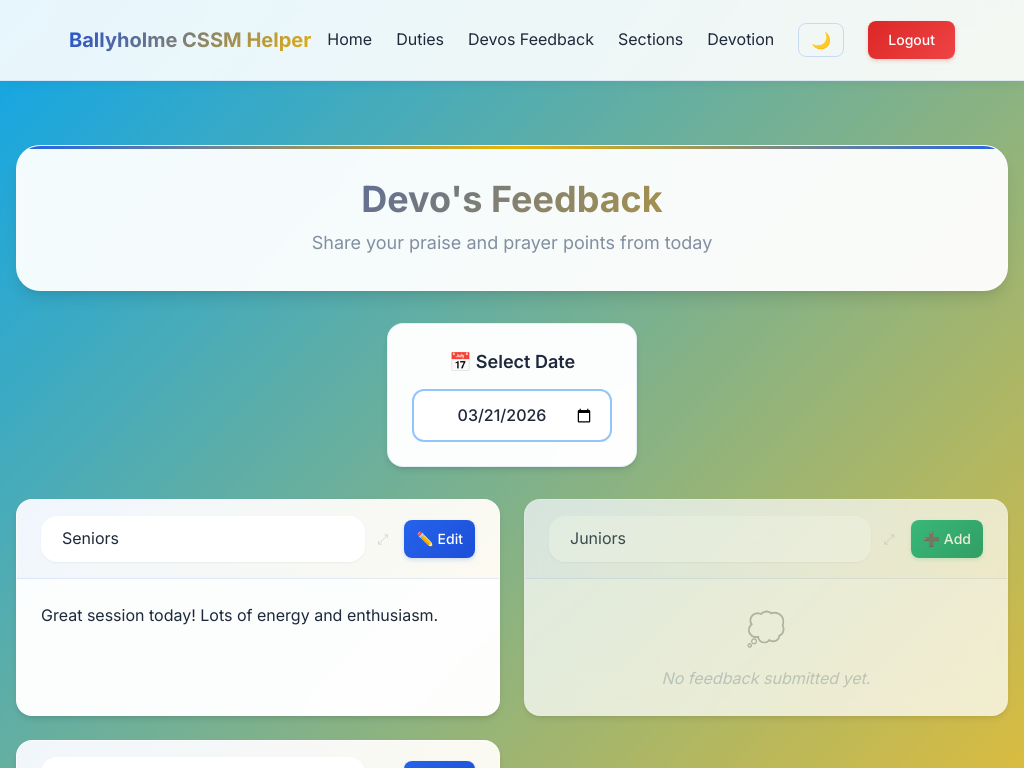
it: DevoFeedback › close button exits focus mode
Expected: the heading "Seniors" is shown, x1=41 y1=516 x2=365 y2=562
Click the button with aria-label "view seniors feedback in focus mode": (240, 615) x1=41 y1=605 x2=438 y2=625
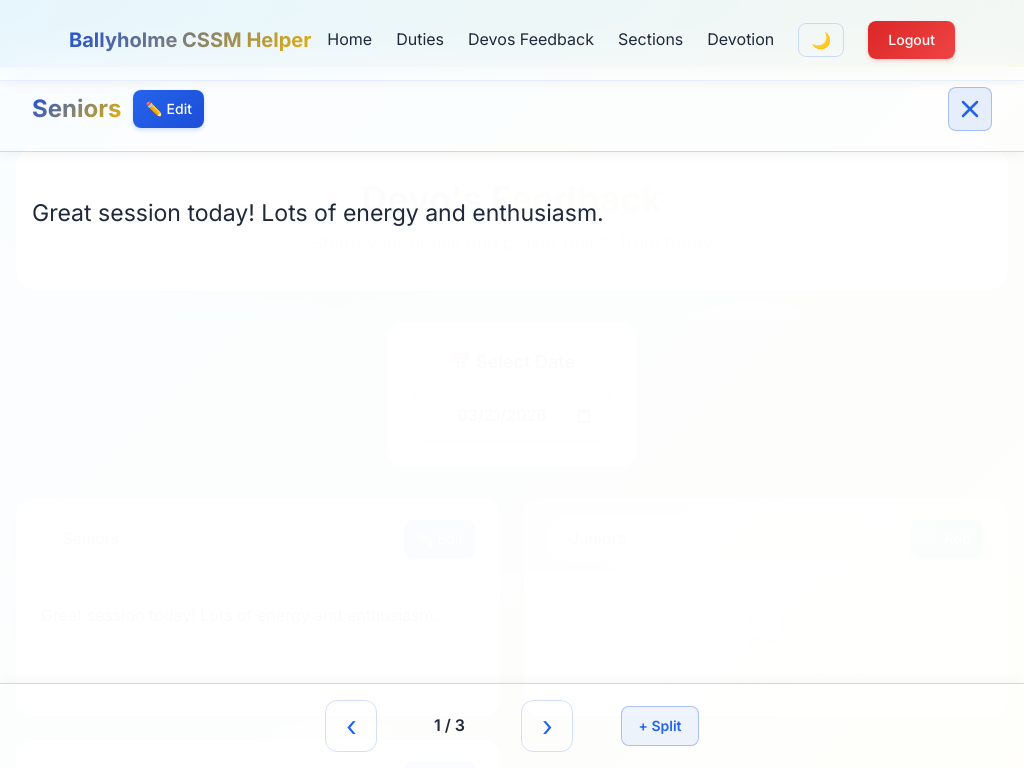
Result: the dialog is shown
Click the button named "close focus view": (970, 109) x1=948 y1=87 x2=992 y2=131
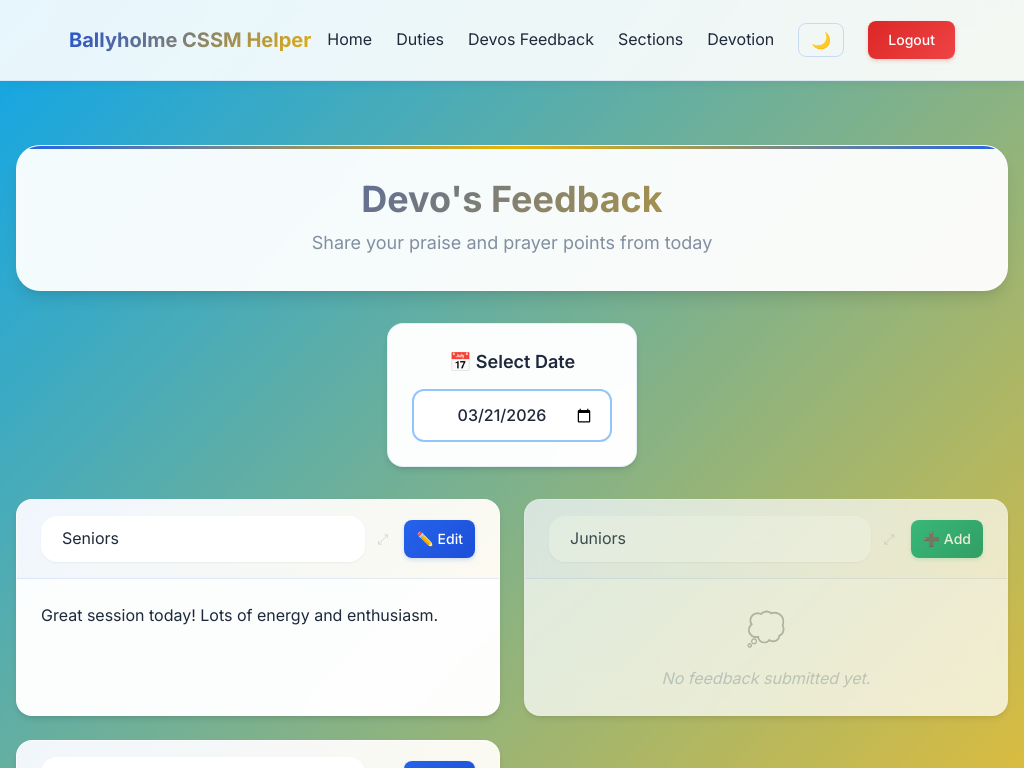
Result: the dialog is gone
